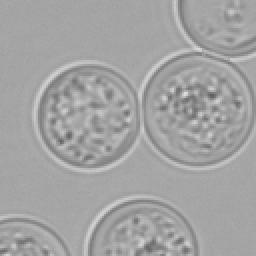picoshell: (138, 48, 256, 170), (32, 60, 138, 172), (82, 194, 202, 256), (172, 0, 254, 60), (0, 214, 69, 256)
